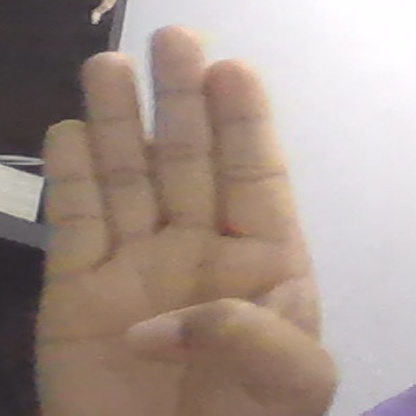B: (38, 24, 336, 409)
